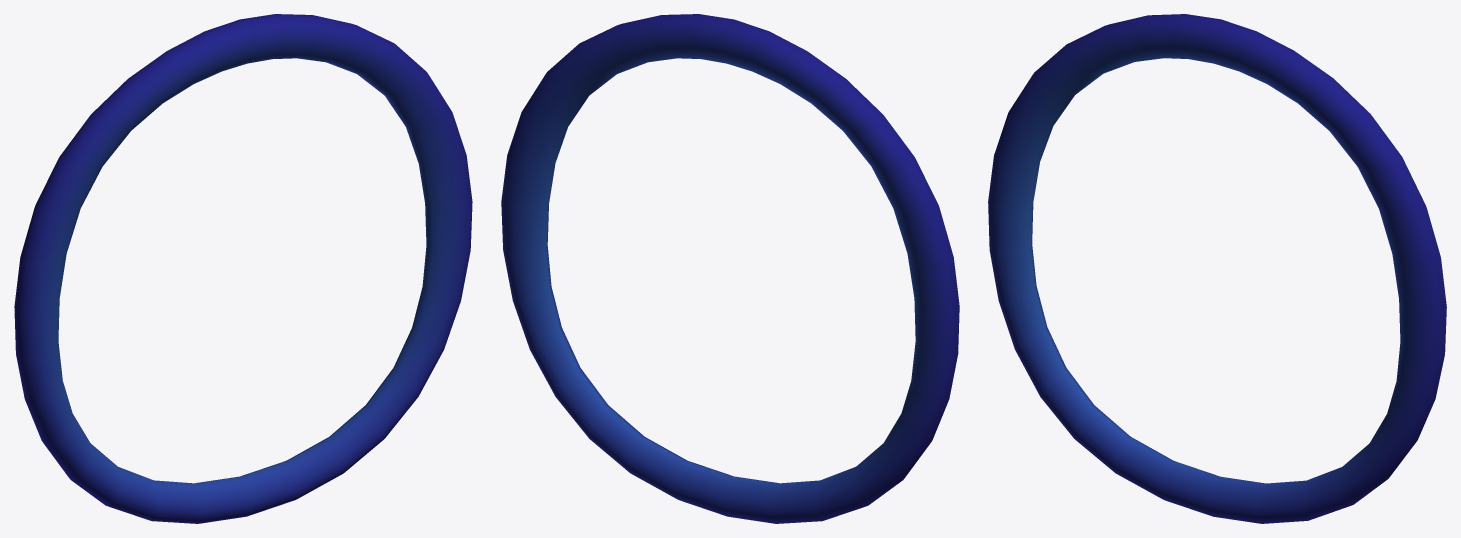
File: ring_Sub.fbx
The picture shows the model from 3 angles, left to right: view 1: azimuth 30°, elevation 25°; view 2: azimuth 150°, elevation 25°; view 3: azimuth 330°, elevation 25°; orthographic projection.
Parts seen in each view (by area): view 1: Cube; view 2: Cube; view 3: Cube.
Part boxes in pixels (bbox=[...]): Cube: bbox=[14, 14, 472, 523]; Cube: bbox=[501, 14, 959, 523]; Cube: bbox=[988, 14, 1446, 523].
Size of the model in its own units: 10.56 by 10.99 by 0.7374.
